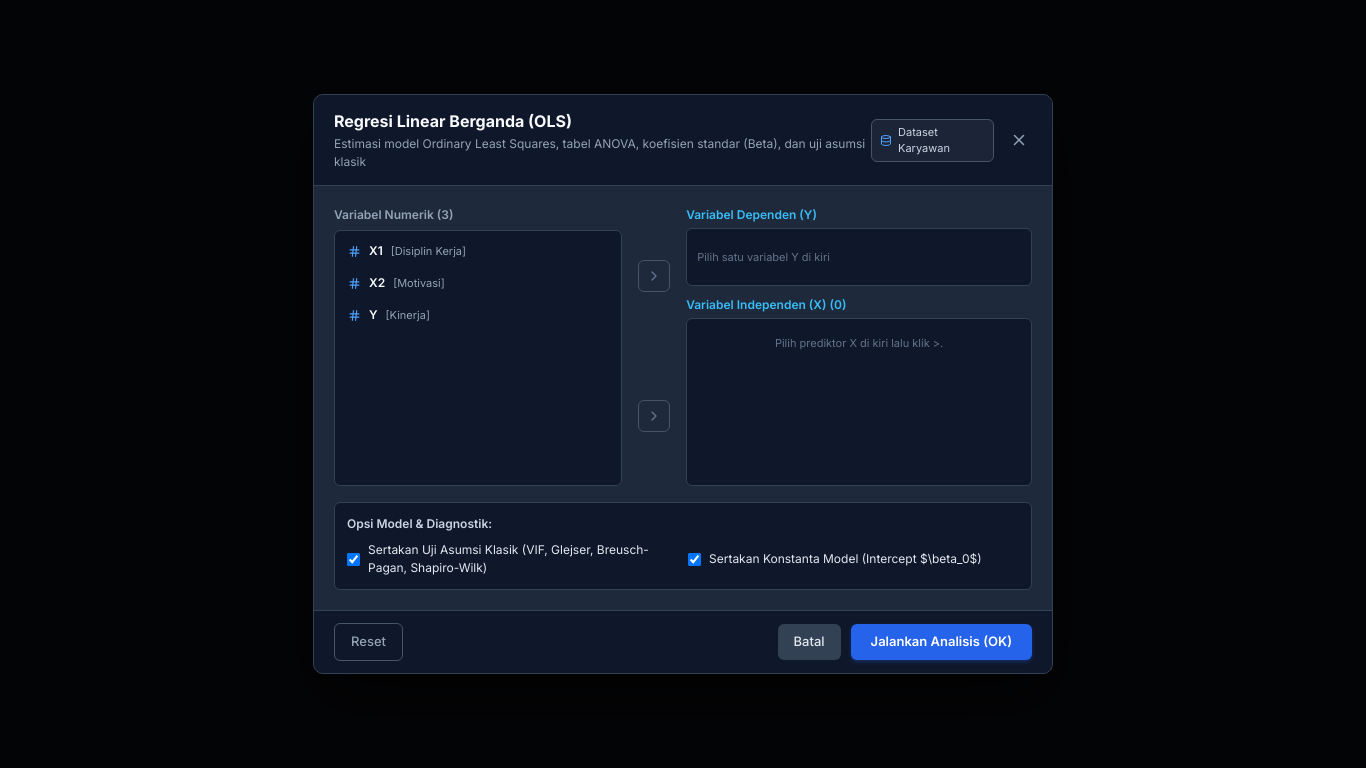
RegressionDialog Component › menolak eksekusi jika variabel dependen atau independen belum ditentukan
Click the button "Jalankan Analisis (OK)" at (941, 642), box 851,624 -> 1032,660
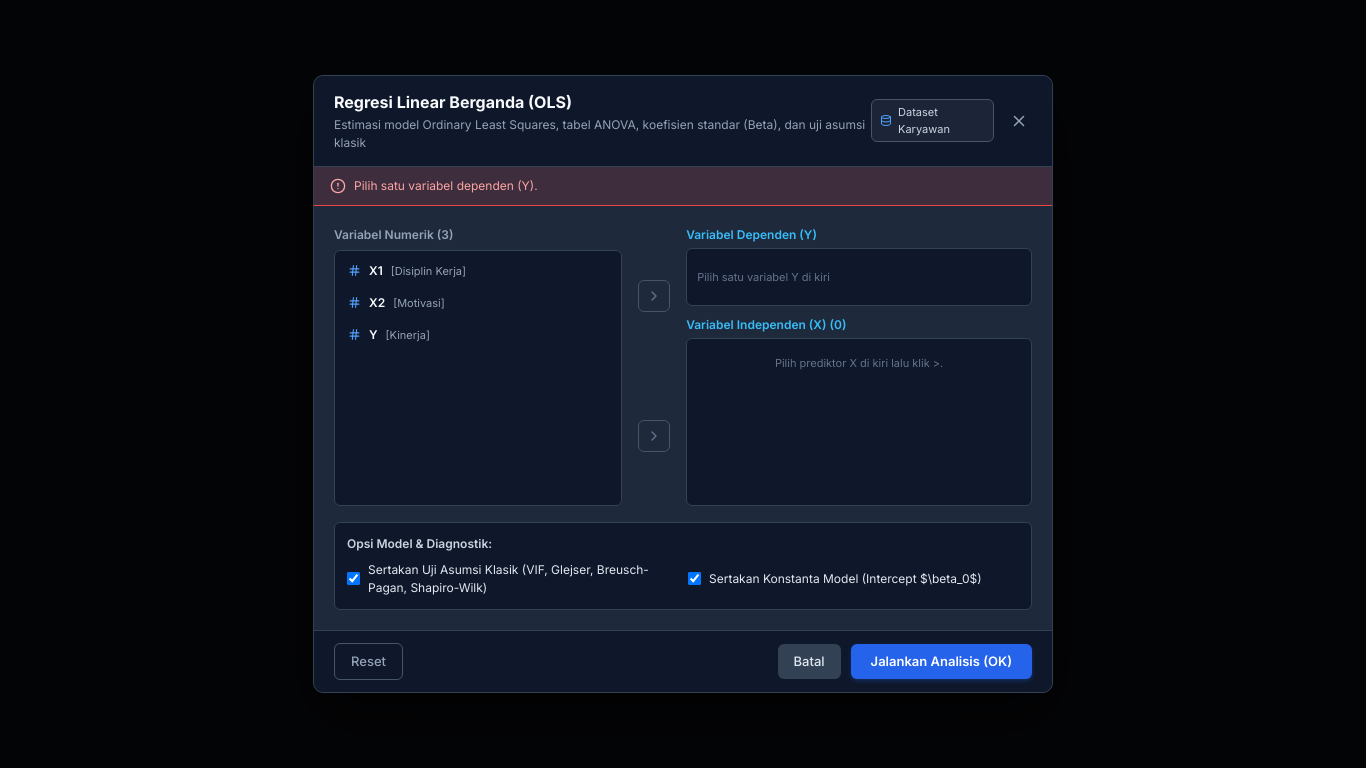
Check: the text "Pilih satu variabel dependen (Y)." is shown, box 354,177 -> 538,195
